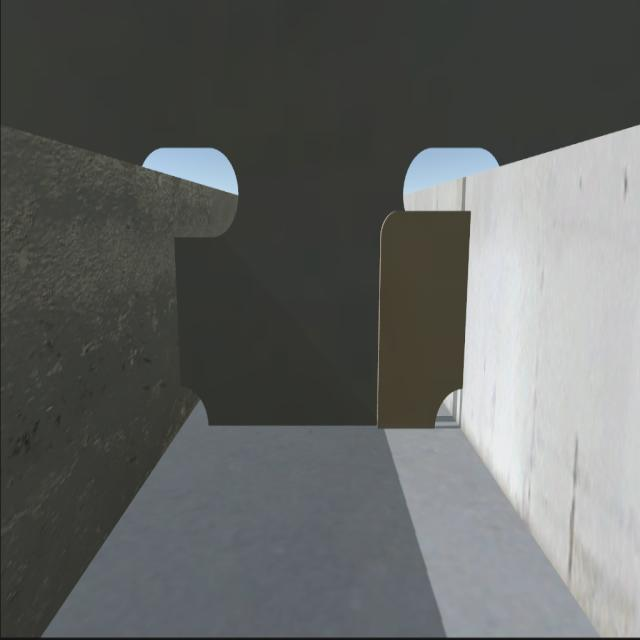fillet_hole: (432, 381, 464, 427), (180, 382, 210, 429)
fillet_yong_jeop_jang: (210, 414, 433, 434)
longi_yong_jeop_jang: (168, 236, 190, 384), (458, 210, 474, 382)
plate_CP05: (377, 209, 467, 424)
